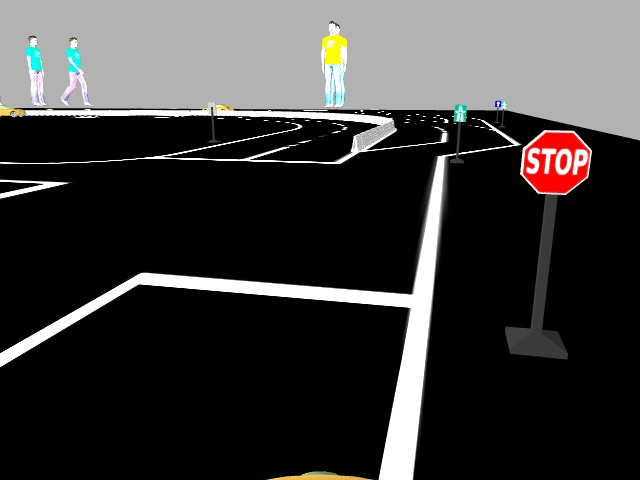Stop: (517, 127, 591, 196)
